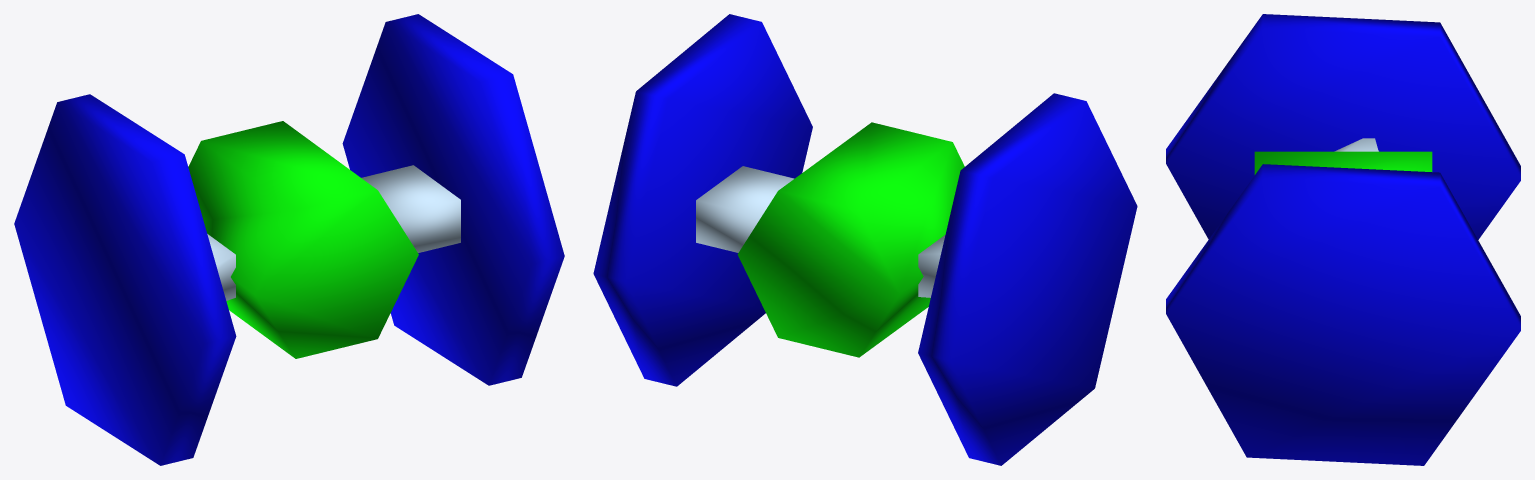
File: hwing.obj
3 renders of one model, left to right at view 1: azimuth 30°, elevation 25°; view 2: azimuth 150°, elevation 25°; view 3: azimuth 270°, elevation 25°, orthographic. The views are drawn at different scales.
Parts seen in each view (by area): view 1: cylinder2_wings, cylinder2_body, cylinder2_spars; view 2: cylinder2_wings, cylinder2_body, cylinder2_spars; view 3: cylinder2_wings, cylinder2_body, cylinder2_spars.
Part boxes in pixels (x1,y1,x2,y2): cylinder2_wings: (14,14,564,465); cylinder2_body: (188,121,418,358); cylinder2_spars: (207,165,460,300); cylinder2_wings: (593,14,1137,465); cylinder2_body: (737,122,964,357); cylinder2_spars: (696,166,945,297); cylinder2_wings: (1166,14,1520,465); cylinder2_body: (1254,151,1432,174); cylinder2_spars: (1334,138,1378,151).
Size of the model in its own units: 8.8 by 7.13 by 7.99.
